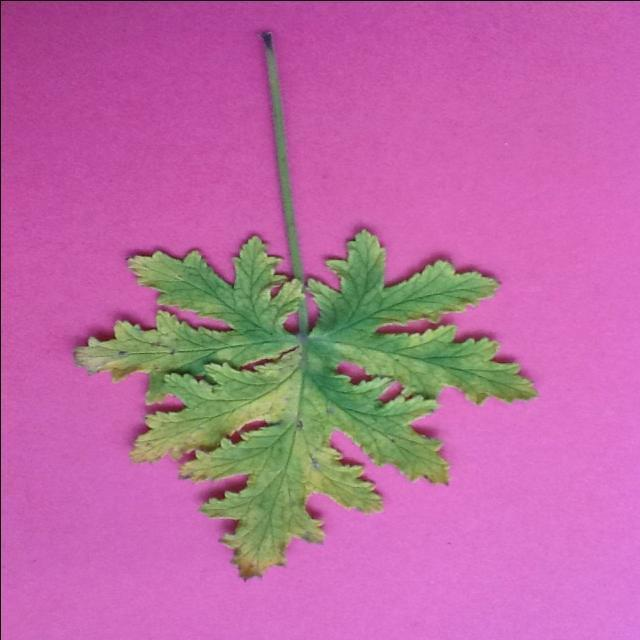foliage: (71, 22, 542, 588)
